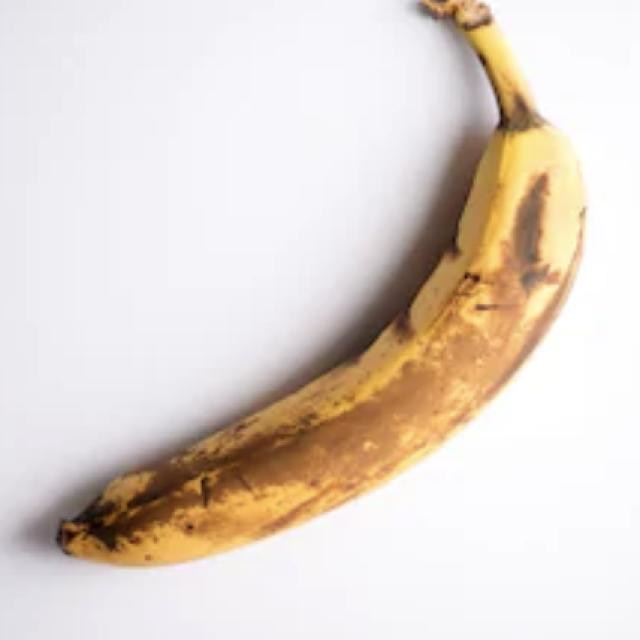rotten-banana: (53, 0, 587, 567)
